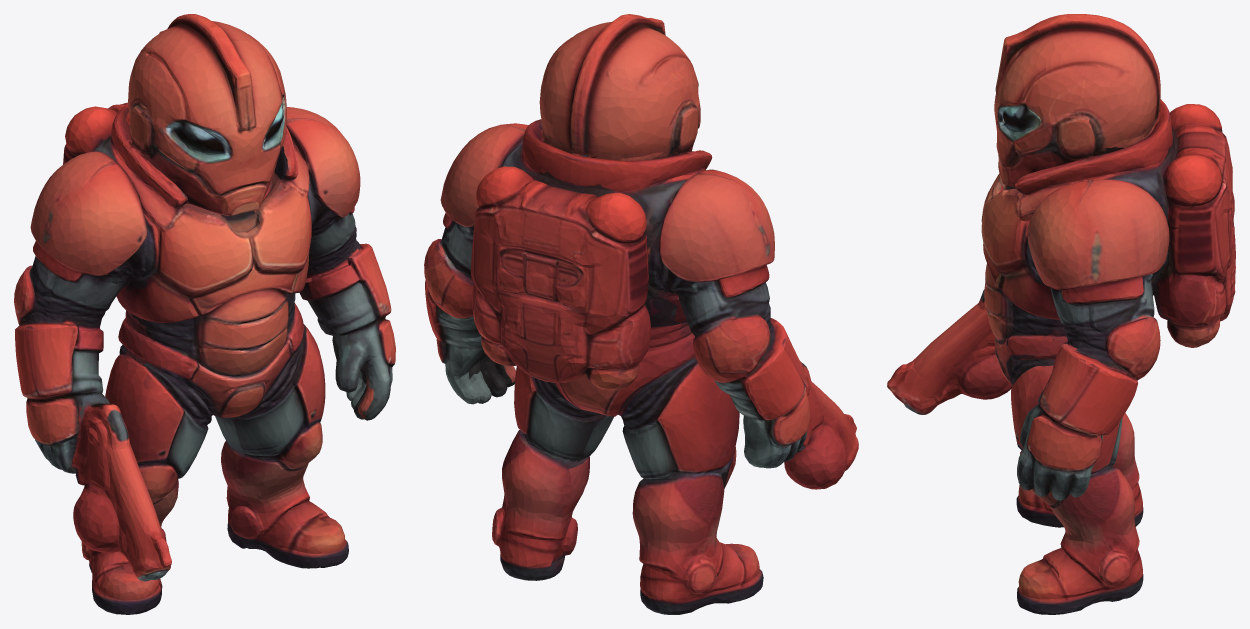
3 views of the same model, side by side, from view 1: azimuth 30°, elevation 25°; view 2: azimuth 150°, elevation 25°; view 3: azimuth 270°, elevation 25° (orthographic). The views are drawn at different scales.
Visible parts, largest first — view 1: figure; view 2: figure; view 3: figure.
Part boxes in pixels (<box>): figure: <box>14,14,395,614</box>; figure: <box>424,14,858,614</box>; figure: <box>887,14,1235,614</box>.
Size of the model in its own units: 0.821 by 1.2 by 0.7003.
1 material, 1 textured.
